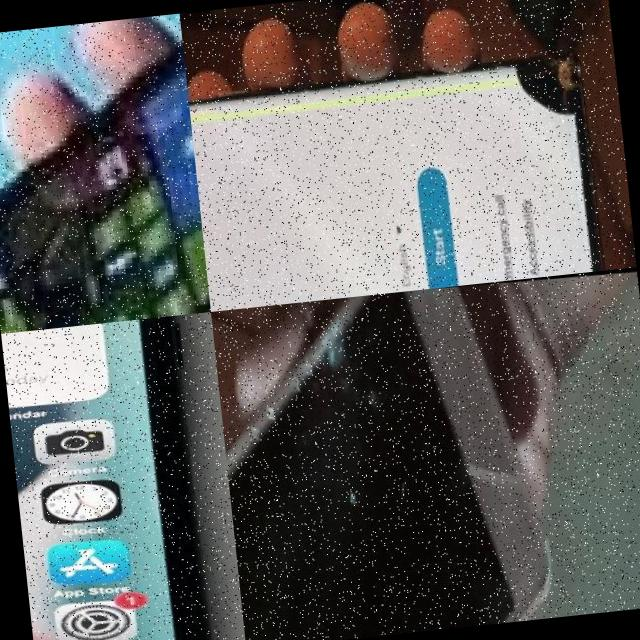dead pixel: (506, 36, 590, 146)
screen crack: (240, 281, 525, 548)
